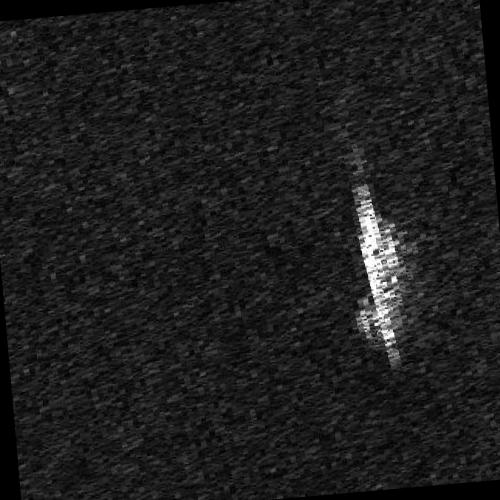ship: (355, 183, 401, 364)
